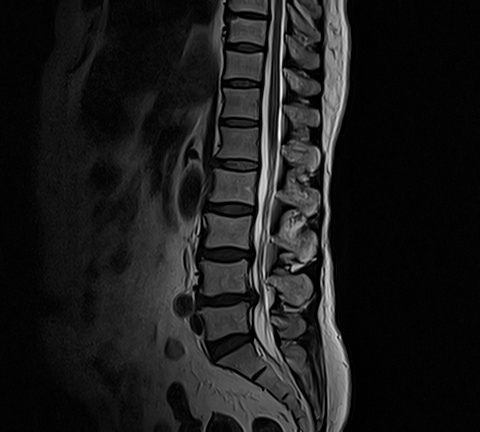L1,v2: (212, 128, 263, 157)
L1-L2,v1: (212, 149, 263, 178)
L2,v2: (208, 172, 259, 201)
L2-L3,v2: (206, 194, 257, 223)
L3,v2: (201, 217, 252, 246)
L3-L4,v3: (199, 240, 250, 269)
L4,v2: (199, 262, 250, 291)
L4-L5,v4: (199, 285, 250, 314)
L5,v2: (199, 306, 250, 335)
L5-S1,v3: (205, 329, 256, 358)
T12-L1,v1: (214, 108, 265, 137)
